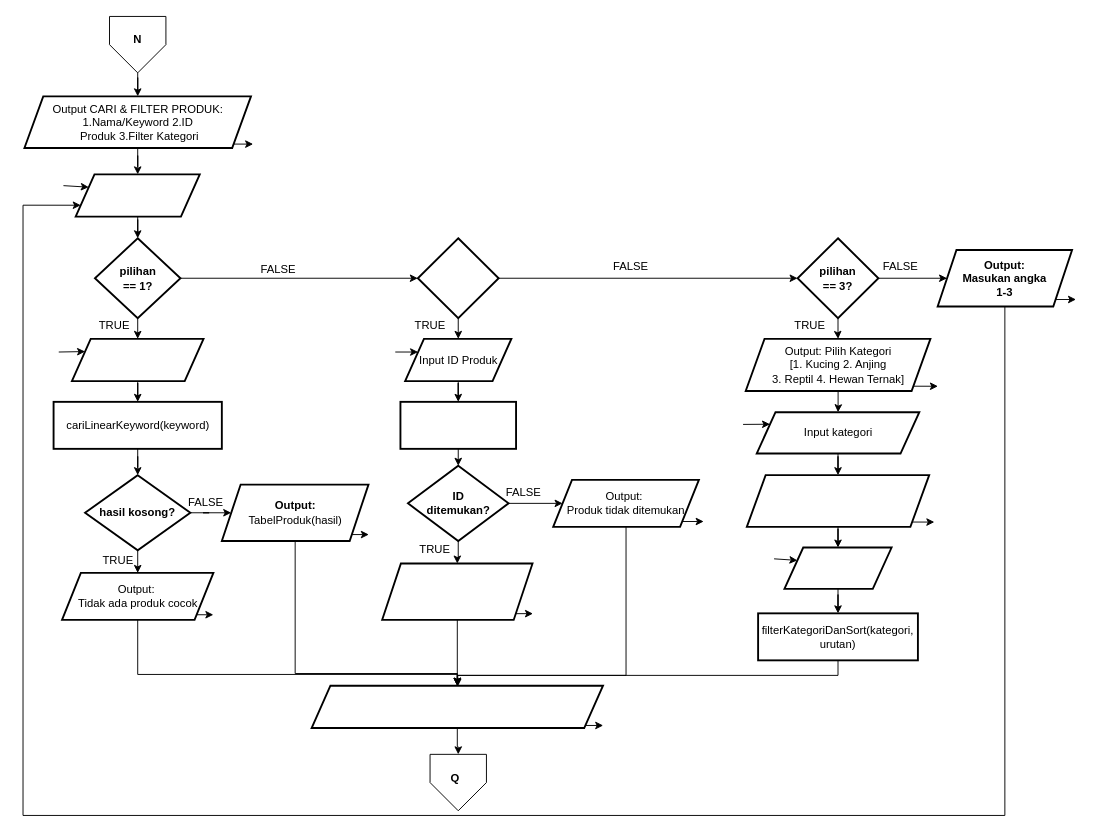
The diagram is 1101 pixels wide and 839 high, and some of its shapes have lost their labels. Each missing label, with the centre of its shape:
"cariBinaryByID(id)" belongs at (458,424).
"Input keyword" belongs at (137,359).
"Input pilihan [1-3]" belongs at (137,195).
"Input urutan" belongs at (837,567).
"Output: Pilih Urutan [1. Temurah ke termahal 2. Termahal ke termurah]" belongs at (837,500).
"Output: TabelProduk (&daftarProduk[idx],1)" belongs at (457,591).
"Output: Tekan Enter untuk kembali" belongs at (456,706).
"pilihan == 2?" belongs at (457,278).
